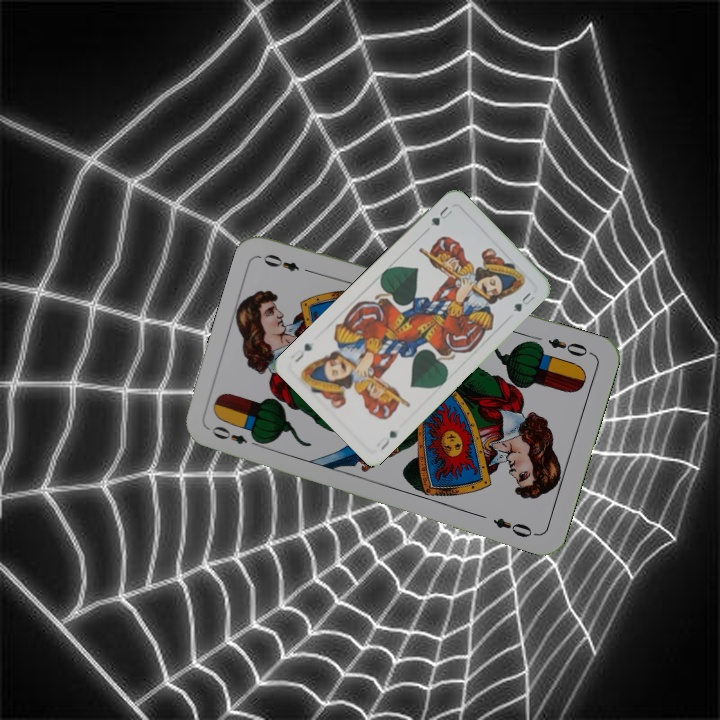EO: (208, 422, 264, 450), (544, 334, 595, 359)
GU: (426, 202, 455, 228), (377, 426, 400, 453)
